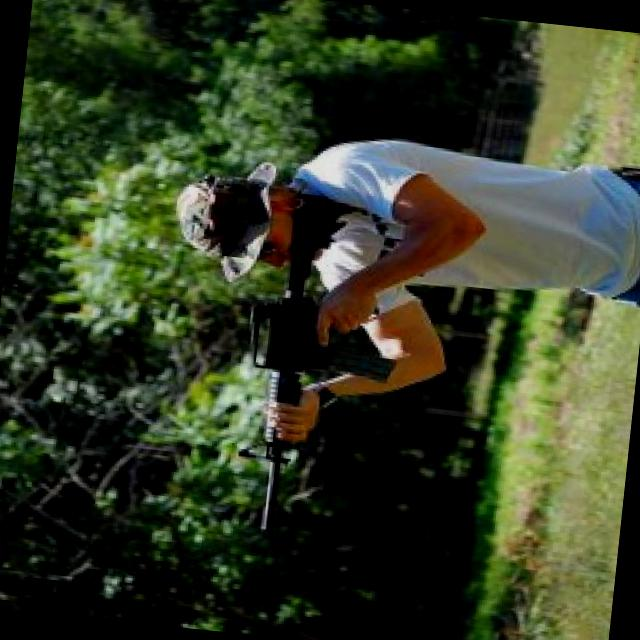long weapon: (226, 179, 400, 537)
